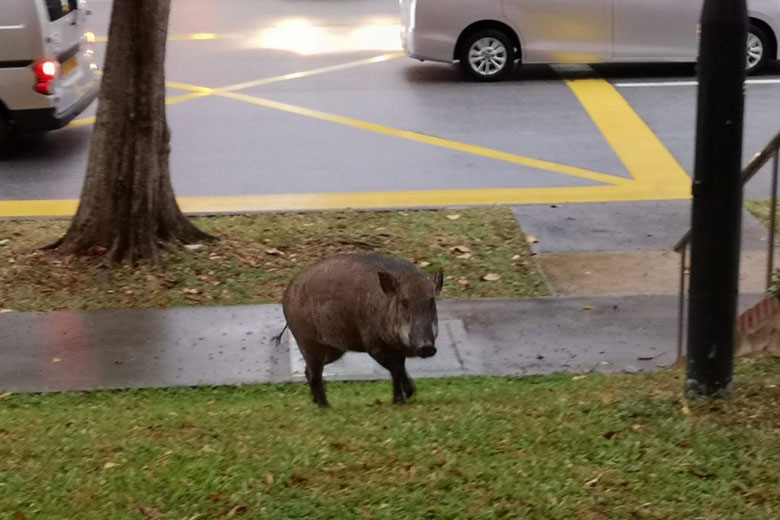boar: (277, 246, 450, 411)
